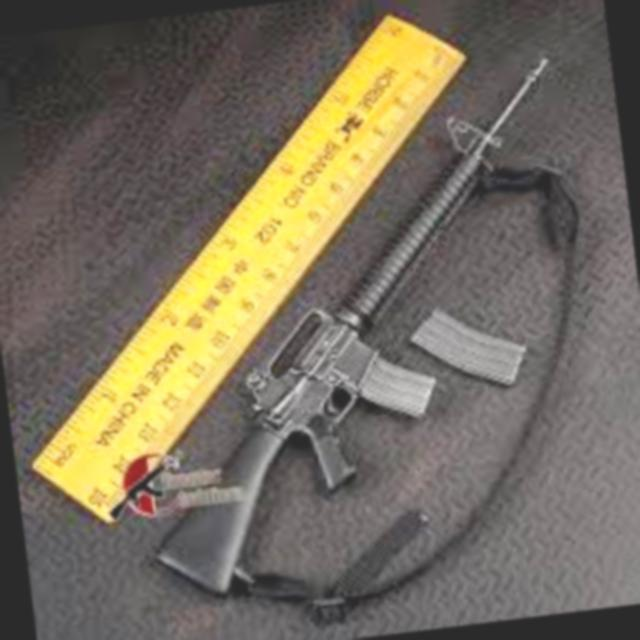m16: (125, 19, 616, 620)
